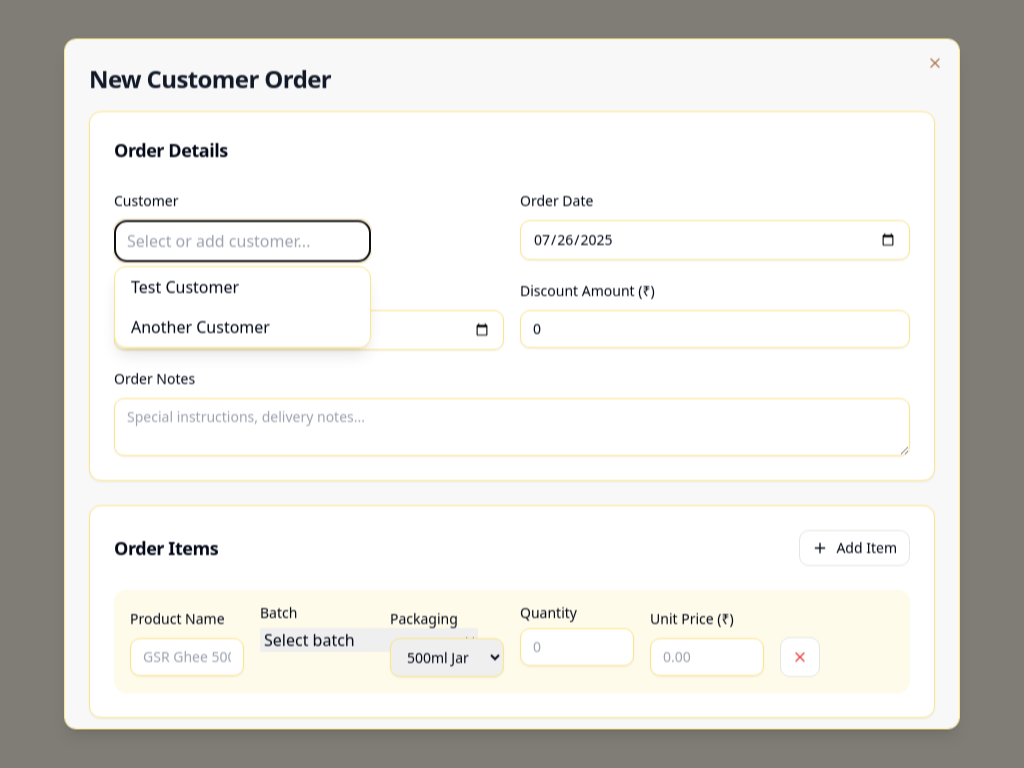
OrderForm › should show suggested alternative batches when validation fails
# Select batch and enter excessive quantity
Select "GR-2024-001 20L available" in the dropdown named "batch" at (369, 640), box [260,628,478,652]
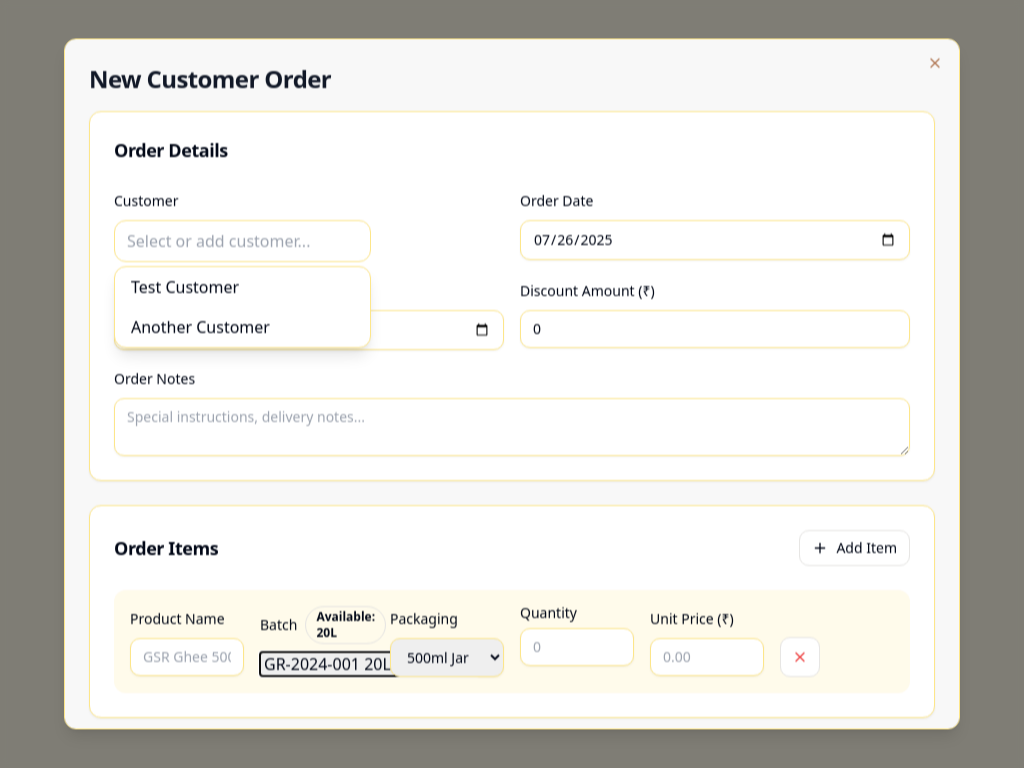
Type "30" into the number field labelled "Quantity" at (577, 647), box [520,628,634,666]
(page scrolled)
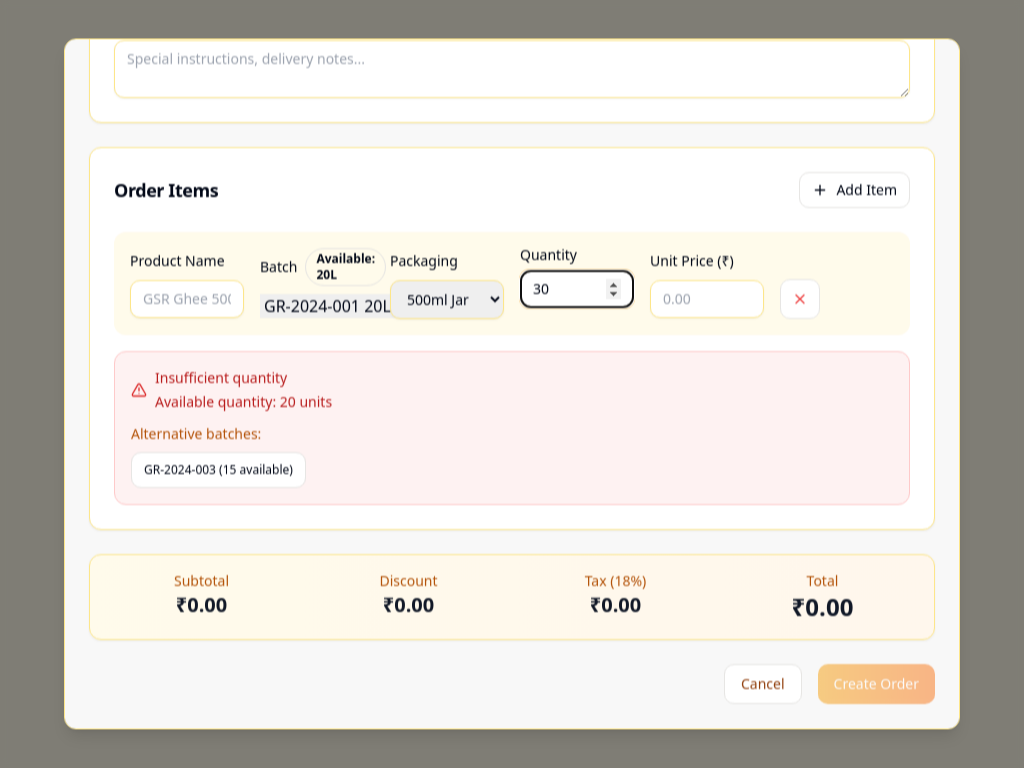
Expected: the text "Alternative batches:" is shown, [131,424,261,443]
Expected: the button "GR-2024-003 (15 available)" is shown, [131,452,306,488]
